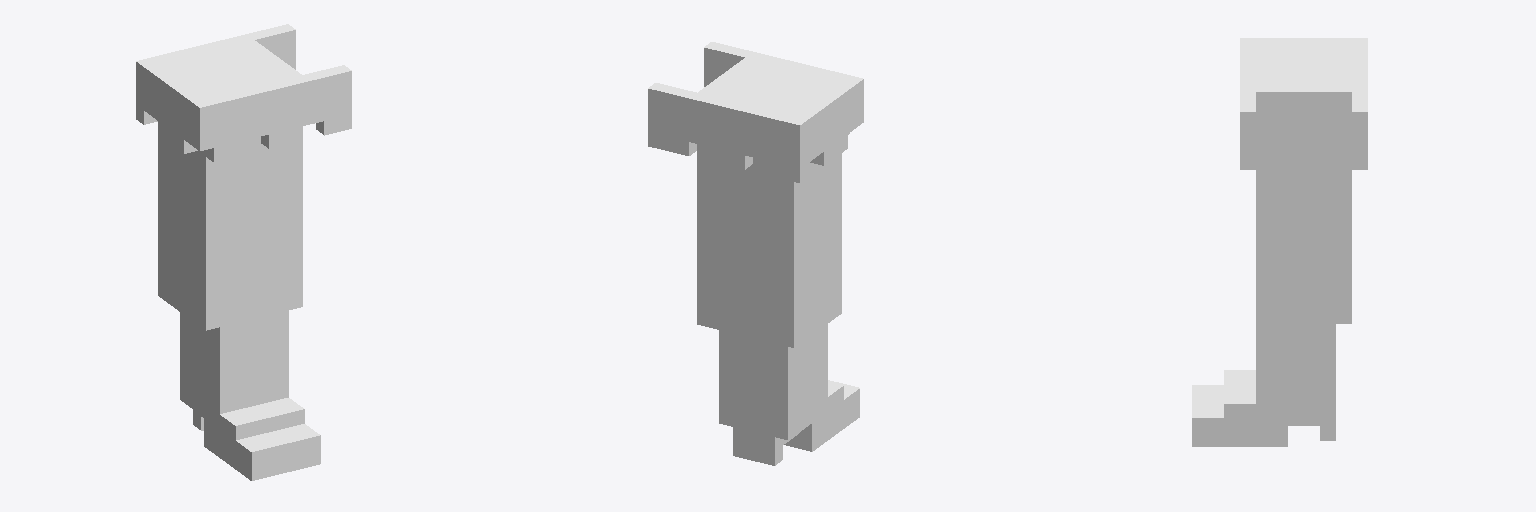
File: pierna1.obj
The picture shows the model from 3 angles: view 1: azimuth 30°, elevation 25°; view 2: azimuth 150°, elevation 25°; view 3: azimuth 270°, elevation 25°; orthographic projection.
Parts seen in each view (by area): view 1: pierna; view 2: pierna; view 3: pierna.
Part boxes in pixels (x1,y1,x2,y2): pierna: (136, 24, 351, 480); pierna: (648, 42, 863, 465); pierna: (1192, 38, 1367, 446).
Bounding box in the file's own units: 1.1 × 2.5 × 1.1.